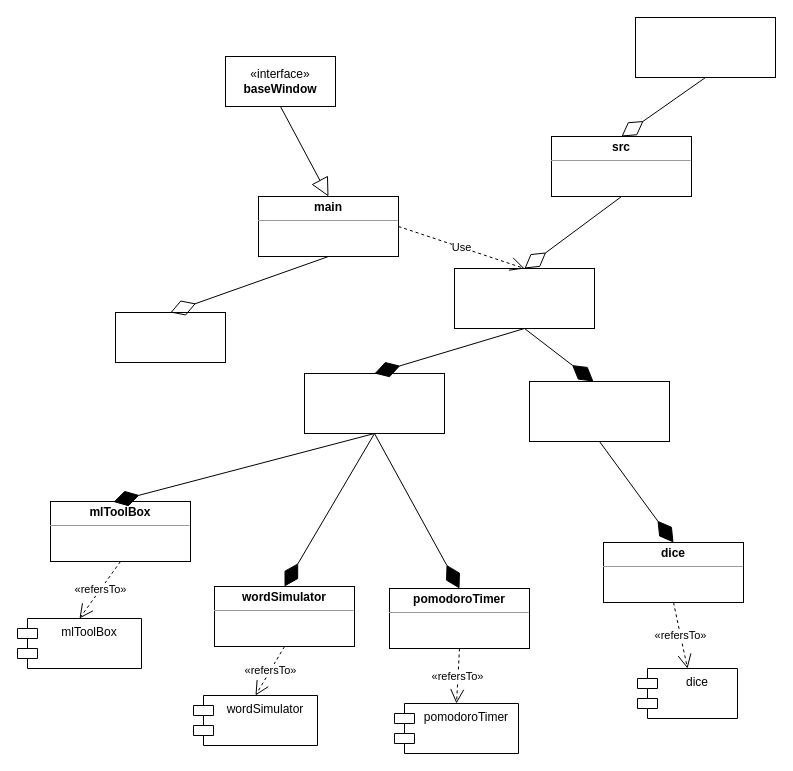
Some shapes in this 793 by 771 pixel diagram are drawn without their labels. Each missing label, with the box of its shape:
components: (454, 268, 594, 328)
fynnQtTB: (634, 16, 776, 78)
games: (528, 380, 670, 442)
tools: (304, 372, 444, 434)
«interface» mainWindow: (114, 312, 226, 362)
